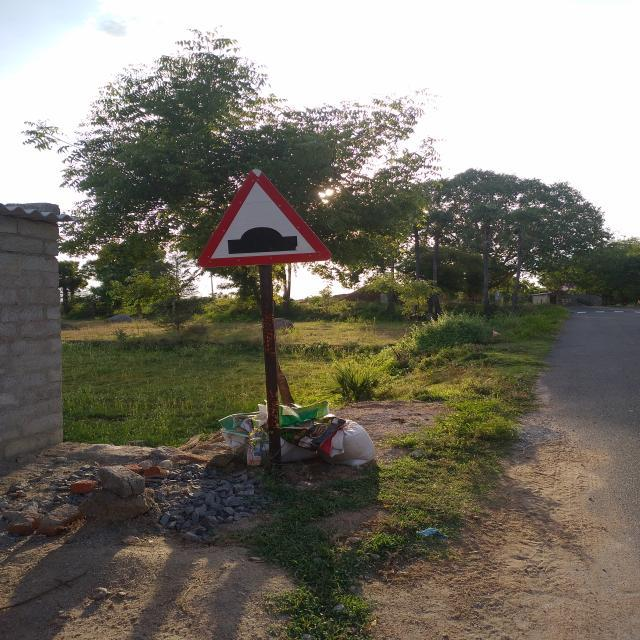hump or rough road: (193, 166, 336, 269)
